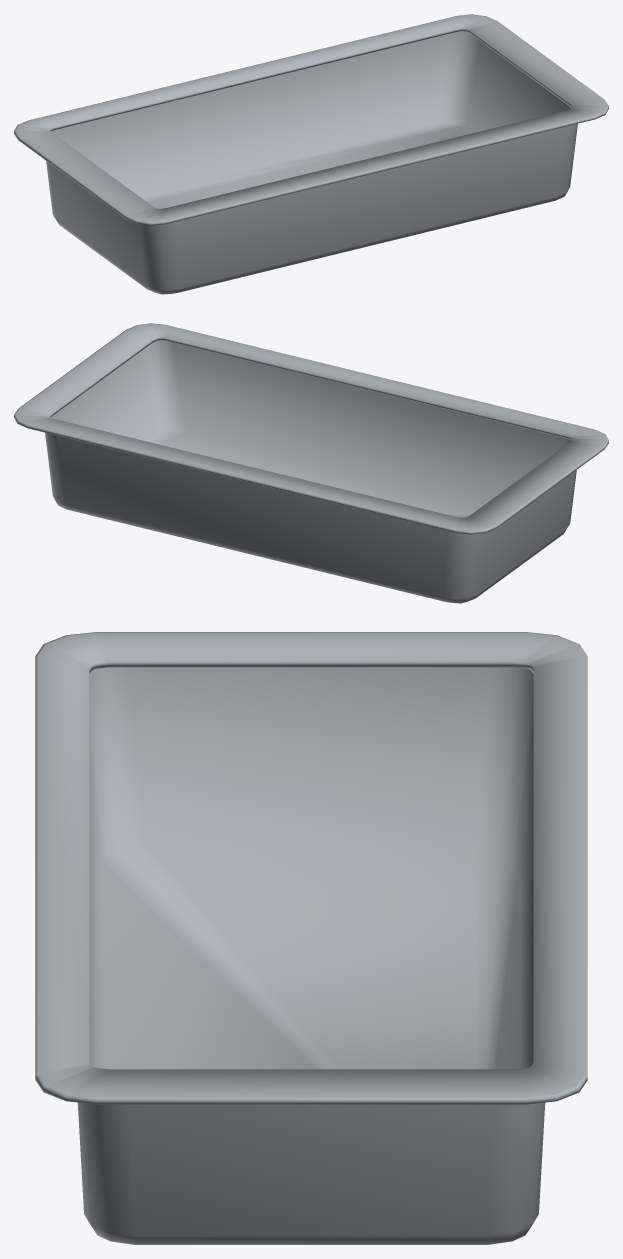
Rendered from Kitchen-Tub-2.fbx.
The picture shows the model from 3 angles, top to bottom: view 1: azimuth 30°, elevation 25°; view 2: azimuth 150°, elevation 25°; view 3: azimuth 270°, elevation 25°; orthographic projection. The views are drawn at different scales.
Visible parts, largest first — view 1: Kitchen-Tub-2; view 2: Kitchen-Tub-2; view 3: Kitchen-Tub-2.
Part boxes in pixels (bbox=[...]): Kitchen-Tub-2: bbox=[14, 14, 608, 294]; Kitchen-Tub-2: bbox=[14, 323, 608, 603]; Kitchen-Tub-2: bbox=[35, 632, 587, 1244].
Bounding box in the file's own units: 0.798 × 0.1494 × 0.3984.
